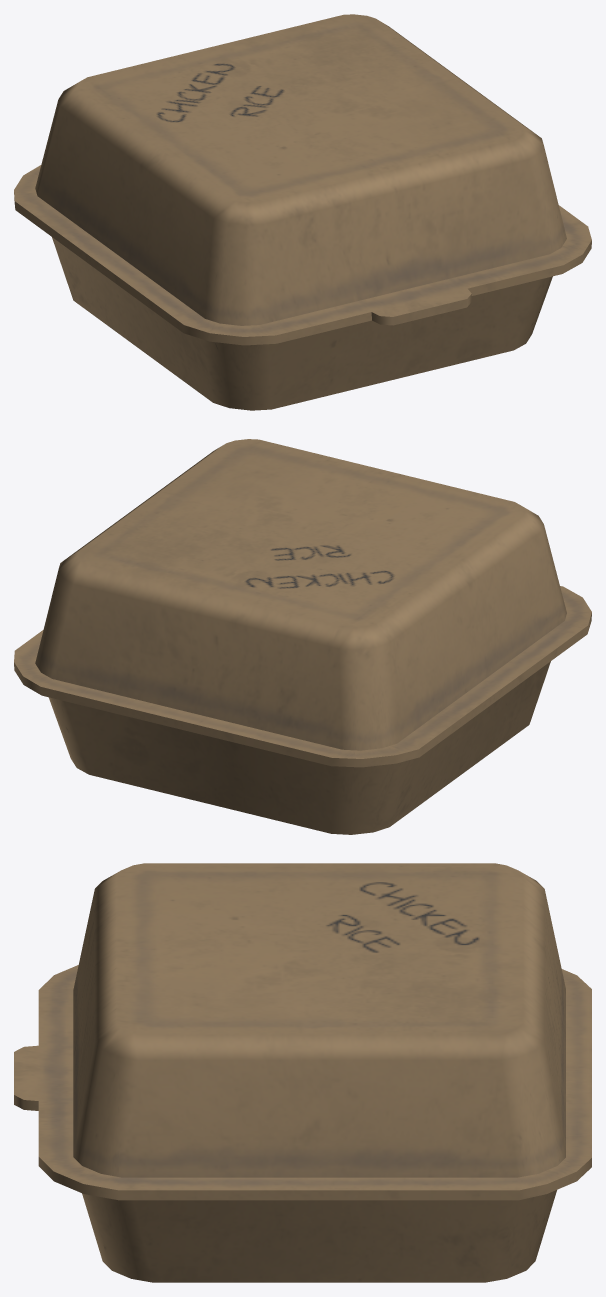
The model's file is SM_Small_Trash_Debris_01.FBX.
3 views of the same model, one above another, from view 1: azimuth 30°, elevation 25°; view 2: azimuth 150°, elevation 25°; view 3: azimuth 270°, elevation 25° (orthographic). The views are drawn at different scales.
Visible parts, largest first — view 1: SM_Small_Trash_Debris_01_LOD0; view 2: SM_Small_Trash_Debris_01_LOD0; view 3: SM_Small_Trash_Debris_01_LOD0.
Boxes of the visible parts, x1,y1,x2,y2 form: SM_Small_Trash_Debris_01_LOD0: [14, 14, 591, 410]; SM_Small_Trash_Debris_01_LOD0: [14, 439, 591, 834]; SM_Small_Trash_Debris_01_LOD0: [14, 863, 591, 1282].
Size of what is drawn, in the model's own units: 18.17 by 18.98 by 8.77.
